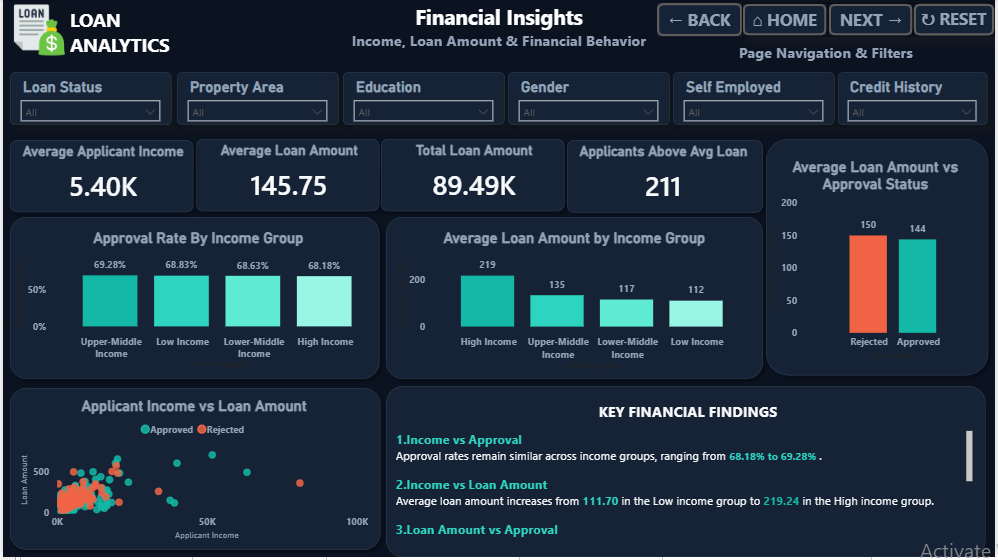

Layout of this report page (visuals, bound fields, positions):
{"tool":"powerbi","page":{"name":"Financial Insights","canvas":[1280,720],"ordinal":2},"visuals":[{"type":"group","id":"g1","title":"Group 8","box":[12.8,0,323.1,96.4],"z":0},{"type":"group","id":"g2","title":"Group 3","box":[0,85,226.8,86.5],"z":0,"group":"g4"},{"type":"shape","box":[975.1,171.5,304.7,323.1],"z":0,"group":"g19"},{"type":"shape","box":[484.7,272,504.6,226.8],"z":0,"group":"g17"},{"type":"shape","box":[0,272.1,494.6,226.8],"z":0,"group":"g14"},{"type":"shape","box":[0,493.2,496.1,226.8],"z":0,"group":"g18"},{"type":"textbox","box":[0,0,1279.8,79.4],"z":1000},{"type":"group","id":"g3","title":"Group 3","box":[215.4,85,226.8,86.5],"z":1000,"group":"g4"},{"type":"clusteredColumnChart","title":"Average Loan Amount vs Approval Status","fields":{"Category":["loan_data.loan_status"],"Y":["loan_data.average_loan_amount"]},"box":[980.9,205.5,287.2,264.6],"z":1000,"group":"g19"},{"type":"clusteredColumnChart","title":"Average Loan Amount by Income Group","fields":{"Y":["loan_data.average_loan_amount"],"Category":["loan_data.income_group"]},"box":[501.4,295.9,470.6,185.9],"z":1000,"group":"g17"},{"type":"clusteredColumnChart","title":"Approval Rate By Income Group","fields":{"Category":["loan_data.income_group"],"Y":["loan_data.Demographic Approval Rate"]},"box":[9,296.2,485.7,185.7],"z":1000,"group":"g14"},{"type":"scatterChart","title":"Applicant Income vs Loan Amount","fields":{"X":["loan_data.applicantincome"],"Series":["loan_data.loan_status"],"Y":["loan_data.loanamount"]},"box":[16.7,514.1,459.8,188.5],"z":1000,"group":"g18"},{"type":"group","id":"g4","title":"Group 4","box":[0,85,1279.8,86.5],"z":2000},{"type":"group","id":"g5","title":"Group 3","box":[429.4,85,226.8,86.5],"z":2000,"group":"g4"},{"type":"textbox","box":[80.8,5.7,255.1,90.7],"z":3000,"group":"g1"},{"type":"group","id":"g6","title":"Group 3","box":[642,85,226.8,86.5],"z":3000,"group":"g4"},{"type":"group","id":"g7","title":"Group 1","box":[239.5,171.5,255.1,110.6],"z":3000},{"type":"shape","box":[0,85,226.8,86.5],"z":4000,"group":"g2"},{"type":"shape","box":[215.4,85,226.8,86.5],"z":4000,"group":"g3"},{"type":"shape","box":[429.4,85,226.8,86.5],"z":4000,"group":"g5"},{"type":"shape","box":[642,85,226.8,86.5],"z":4000,"group":"g6"},{"type":"group","id":"g8","title":"Group 3","box":[856.1,85,226.8,86.5],"z":4000,"group":"g4"},{"type":"shape","box":[856.1,85,226.8,86.5],"z":4000,"group":"g8"},{"type":"shape","box":[1068.7,85,211.2,86.5],"z":4000,"group":"g10"},{"type":"shape","box":[239.5,171.5,254.8,111.3],"z":4000,"group":"g7"},{"type":"group","id":"g9","title":"Group 1","box":[479.1,171.5,255.1,110.6],"z":4000},{"type":"shape","box":[479.1,171.5,254.8,111.3],"z":4000,"group":"g9"},{"type":"shape","box":[0,172.9,254.8,111.3],"z":4000,"group":"g12"},{"type":"shape","box":[718.6,172.9,270.7,112],"z":4000,"group":"g11"},{"type":"group","id":"g10","title":"Group 3","box":[1068.7,85,211.2,86.5],"z":5000,"group":"g4"},{"type":"group","id":"g11","title":"Group 1","box":[718.6,172.9,270.7,112],"z":5000},{"type":"cardVisual","title":"Average Loan Amount","fields":{"Data":["loan_data.average_loan_amount"]},"box":[257,183.9,223,86.5],"z":5000,"group":"g7"},{"type":"cardVisual","title":"Total Loan Amount","fields":{"Data":["loan_data.Total Loan Amount"]},"box":[496.6,183.9,223,86.5],"z":5000,"group":"g9"},{"type":"cardVisual","title":"Average Applicant Income","fields":{"Data":["loan_data.average_applicantincome"]},"box":[17.5,185.3,223,86.5],"z":5000,"group":"g12"},{"type":"cardVisual","title":"Applicants Above Avg Loan","fields":{"Data":["loan_data.Applicants Above Avg Loan"]},"box":[730.8,185.6,243.8,86.5],"z":5000,"group":"g11"},{"type":"image","box":[12.8,0,68,79.4],"z":6000,"group":"g1"},{"type":"group","id":"g12","title":"Group 7","box":[0,172.9,255.1,112],"z":6000},{"type":"group","id":"g13","title":"Group 5","box":[484.7,272,504.6,226.8],"z":6000,"group":"g16"},{"type":"group","id":"g14","title":"Group 6","box":[0,272.1,494.6,226.8],"z":7000,"group":"g16"},{"type":"group","id":"g15","title":"Group 5","box":[0,493.2,496.1,226.8],"z":7000},{"type":"group","id":"g16","title":"Group 9","box":[0,272,989.3,226.9],"z":8000},{"type":"group","id":"g17","title":"Group 2","box":[484.7,272,504.6,226.8],"z":8001,"group":"g13"},{"type":"group","id":"g18","title":"Group 2","box":[0,493.2,496.1,226.8],"z":8001,"group":"g15"},{"type":"slicer","fields":{"Values":["loan_data.loan_status"]},"box":[12.8,96.7,199.8,63],"z":8003,"group":"g2"},{"type":"slicer","fields":{"Values":["loan_data.property_area"]},"box":[228.2,96.7,199.8,63],"z":8003,"group":"g3"},{"type":"slicer","fields":{"Values":["loan_data.education"]},"box":[442.2,96.7,199.8,63],"z":8003,"group":"g5"},{"type":"slicer","fields":{"Values":["loan_data.gender"]},"box":[654.8,96.7,199.8,63],"z":8003,"group":"g6"},{"type":"slicer","fields":{"Values":["loan_data.self_employed"]},"box":[868.9,96.7,199.8,63],"z":8003,"group":"g8"},{"type":"slicer","fields":{"Values":["loan_data.credit_history"]},"box":[1080.6,96.7,186.1,63],"z":8003,"group":"g10"},{"type":"group","id":"g19","title":"Group 5","box":[975.1,171.5,304.7,323.1],"z":9000},{"type":"shape","box":[494.6,498.9,773.9,221.1],"z":10000},{"type":"textbox","box":[501.7,514.5,763.9,38.3],"z":11000},{"type":"textbox","box":[501.7,552.8,754,150.2],"z":12000},{"type":"actionButton","box":[843.8,5.7,110.1,42.9],"z":13000},{"type":"actionButton","box":[953.9,5.7,110.1,42.9],"z":14000},{"type":"actionButton","box":[1064,5.7,110.1,42.9],"z":15000},{"type":"actionButton","box":[1174.2,5.7,105.8,42.9],"z":16000},{"type":"textbox","box":[844.3,51.4,435.7,44.3],"z":17000}]}

Visuals, with their boxes in screenshot pixels (x1, y1, x2, y2), scaled from the page's 1280x720 canvas onto the 998x560 screenshot:
"Group 8" group: bbox(10, 0, 262, 75)
"Group 3" group: bbox(0, 66, 177, 133)
shape: bbox(760, 133, 997, 385)
shape: bbox(378, 212, 771, 388)
shape: bbox(0, 212, 386, 388)
shape: bbox(0, 384, 387, 559)
textbox: bbox(0, 0, 997, 62)
"Group 3" group: bbox(168, 66, 345, 133)
"Average Loan Amount vs Approval Status" clusteredColumnChart: bbox(765, 160, 989, 366)
"Average Loan Amount by Income Group" clusteredColumnChart: bbox(391, 230, 758, 375)
"Approval Rate By Income Group" clusteredColumnChart: bbox(7, 230, 386, 375)
"Applicant Income vs Loan Amount" scatterChart: bbox(13, 400, 372, 546)
"Group 4" group: bbox(0, 66, 997, 133)
"Group 3" group: bbox(335, 66, 512, 133)
textbox: bbox(63, 4, 262, 75)
"Group 3" group: bbox(501, 66, 677, 133)
"Group 1" group: bbox(187, 133, 386, 219)
shape: bbox(0, 66, 177, 133)
shape: bbox(168, 66, 345, 133)
shape: bbox(335, 66, 512, 133)
shape: bbox(501, 66, 677, 133)
"Group 3" group: bbox(667, 66, 844, 133)
shape: bbox(667, 66, 844, 133)
shape: bbox(833, 66, 997, 133)
shape: bbox(187, 133, 385, 220)
"Group 1" group: bbox(374, 133, 572, 219)
shape: bbox(374, 133, 572, 220)
shape: bbox(0, 134, 199, 221)
shape: bbox(560, 134, 771, 222)
"Group 3" group: bbox(833, 66, 997, 133)
"Group 1" group: bbox(560, 134, 771, 222)
"Average Loan Amount" cardVisual: bbox(200, 143, 374, 210)
"Total Loan Amount" cardVisual: bbox(387, 143, 561, 210)
"Average Applicant Income" cardVisual: bbox(14, 144, 188, 211)
"Applicants Above Avg Loan" cardVisual: bbox(570, 144, 760, 212)
image: bbox(10, 0, 63, 62)
"Group 7" group: bbox(0, 134, 199, 222)
"Group 5" group: bbox(378, 212, 771, 388)
"Group 6" group: bbox(0, 212, 386, 388)
"Group 5" group: bbox(0, 384, 387, 559)
"Group 9" group: bbox(0, 212, 771, 388)
"Group 2" group: bbox(378, 212, 771, 388)
"Group 2" group: bbox(0, 384, 387, 559)
slicer - loan_data.loan_status: bbox(10, 75, 166, 124)
slicer - loan_data.property_area: bbox(178, 75, 334, 124)
slicer - loan_data.education: bbox(345, 75, 501, 124)
slicer - loan_data.gender: bbox(511, 75, 666, 124)
slicer - loan_data.self_employed: bbox(677, 75, 833, 124)
slicer - loan_data.credit_history: bbox(843, 75, 988, 124)
"Group 5" group: bbox(760, 133, 997, 385)
shape: bbox(386, 388, 989, 559)
textbox: bbox(391, 400, 987, 430)
textbox: bbox(391, 430, 979, 547)
actionButton: bbox(658, 4, 744, 38)
actionButton: bbox(744, 4, 830, 38)
actionButton: bbox(830, 4, 915, 38)
actionButton: bbox(916, 4, 997, 38)
textbox: bbox(658, 40, 997, 74)
